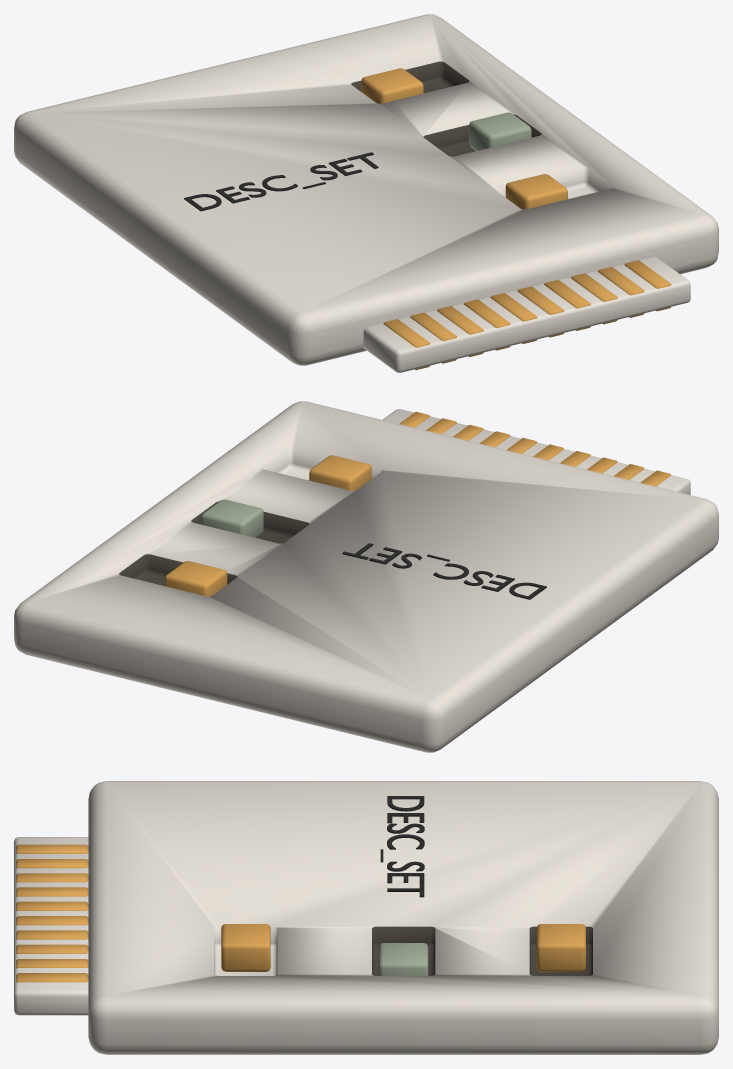
File: vk_descriptor.glb
The picture shows the model from 3 angles, top to bottom: view 1: azimuth 30°, elevation 25°; view 2: azimuth 150°, elevation 25°; view 3: azimuth 270°, elevation 25°; orthographic projection. The views are drawn at different scales.
Visible parts, largest first — view 1: DescriptorCard, EdgeConnectorTongue, Label_DESC_SET, BindingSwitch_1, BindingSwitch_0, BindingSwitch_2, GoldContact_8, GoldContact_2, GoldContact_5, GoldContact_3, GoldContact_0, GoldContact_6 (+4 smaller); view 2: DescriptorCard, EdgeConnectorTongue, BindingSwitch_1, Label_DESC_SET, BindingSwitch_2, BindingSwitch_0; view 3: DescriptorCard, EdgeConnectorTongue, BindingSwitch_0, BindingSwitch_2, Label_DESC_SET, BindingSwitch_1, GoldContact_1, GoldContact_5, GoldContact_2, GoldContact_4, GoldContact_6, GoldContact_9 (+4 smaller).
Boxes of the visible parts, x1=… form: DescriptorCard: x1=14, y1=14, x2=718, y2=365; EdgeConnectorTongue: x1=363, y1=257, x2=690, y2=372; Label_DESC_SET: x1=184, y1=152, x2=378, y2=211; BindingSwitch_1: x1=469, y1=112, x2=531, y2=150; BindingSwitch_0: x1=505, y1=174, x2=567, y2=209; BindingSwitch_2: x1=361, y1=68, x2=423, y2=103; GoldContact_8: x1=597, y1=266, x2=644, y2=317; GoldContact_2: x1=437, y1=306, x2=483, y2=357; GoldContact_5: x1=517, y1=286, x2=564, y2=337; GoldContact_3: x1=464, y1=299, x2=510, y2=350; GoldContact_0: x1=383, y1=319, x2=430, y2=370; GoldContact_6: x1=544, y1=279, x2=590, y2=330; DescriptorCard: x1=14, y1=401, x2=718, y2=752; EdgeConnectorTongue: x1=383, y1=409, x2=690, y2=494; BindingSwitch_1: x1=201, y1=499, x2=263, y2=537; Label_DESC_SET: x1=342, y1=543, x2=546, y2=599; BindingSwitch_2: x1=165, y1=561, x2=227, y2=596; BindingSwitch_0: x1=309, y1=455, x2=371, y2=490; DescriptorCard: x1=88, y1=781, x2=718, y2=1054; EdgeConnectorTongue: x1=14, y1=837, x2=88, y2=1015; BindingSwitch_0: x1=221, y1=924, x2=270, y2=971; BindingSwitch_2: x1=536, y1=924, x2=585, y2=971; Label_DESC_SET: x1=380, y1=796, x2=424, y2=897; BindingSwitch_1: x1=379, y1=943, x2=428, y2=975; GoldContact_1: x1=16, y1=859, x2=88, y2=868; GoldContact_5: x1=16, y1=916, x2=88, y2=925; GoldContact_2: x1=16, y1=873, x2=88, y2=882; GoldContact_4: x1=16, y1=901, x2=88, y2=911; GoldContact_6: x1=16, y1=930, x2=88, y2=939; GoldContact_9: x1=16, y1=973, x2=88, y2=982.
Size of the model in its own units: 2.4 by 0.32 by 3.13.
